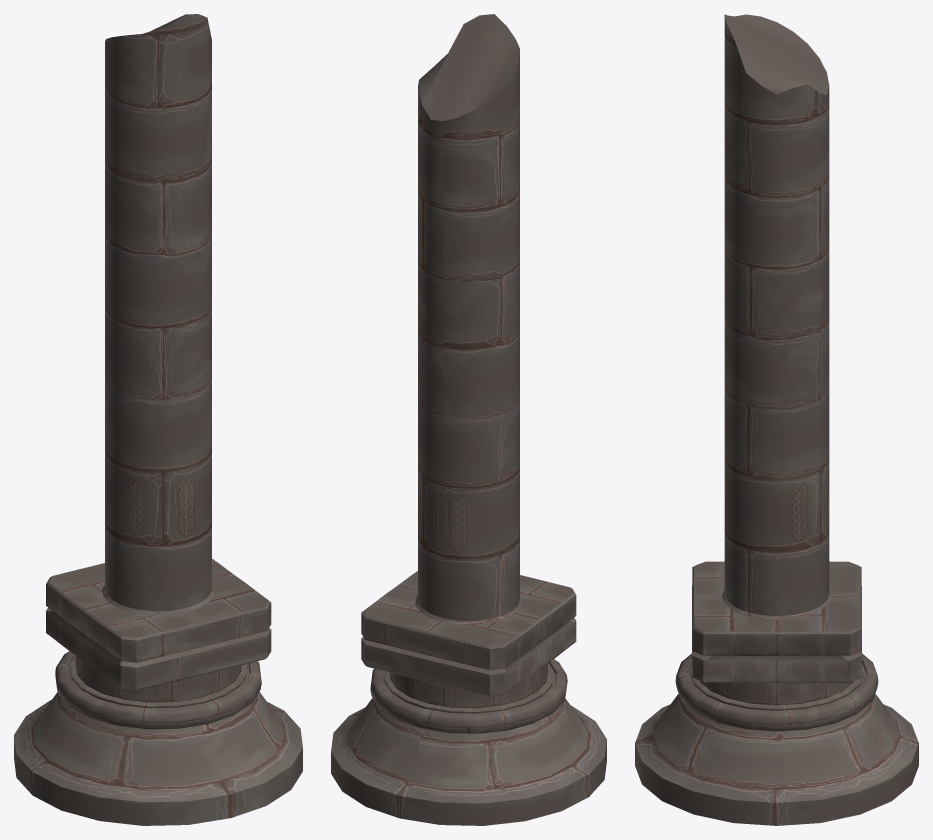
Rendered from PillarDamaged1_1.fbx.
3 views of the same model, side by side, from view 1: azimuth 30°, elevation 25°; view 2: azimuth 150°, elevation 25°; view 3: azimuth 270°, elevation 25° (orthographic). The views are drawn at different scales.
Parts seen in each view (by area): view 1: pasted__pasted__polySurface62; view 2: pasted__pasted__polySurface62; view 3: pasted__pasted__polySurface62.
Part boxes in pixels (x1,y1,x2,y2): pasted__pasted__polySurface62: (14,14,302,825); pasted__pasted__polySurface62: (331,14,606,825); pasted__pasted__polySurface62: (635,14,918,825).
Bounding box in the file's own units: 61.57 × 180 × 61.57.
